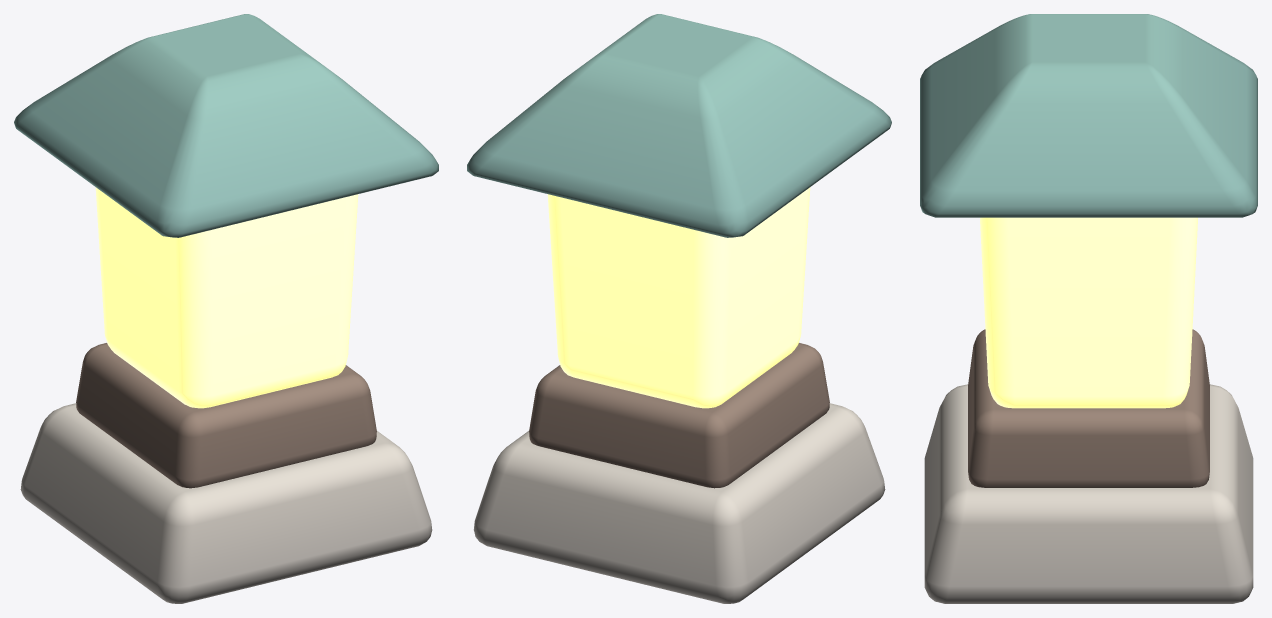
Rendered from hero_storybook_lantern.glb.
The picture shows the model from 3 angles, left to right: view 1: azimuth 30°, elevation 25°; view 2: azimuth 150°, elevation 25°; view 3: azimuth 270°, elevation 25°; orthographic projection. The views are drawn at different scales.
Visible parts, largest first — view 1: LanternRoofCap, LanternPlinth, LanternAmberCore, LanternFrameBase; view 2: LanternRoofCap, LanternPlinth, LanternAmberCore, LanternFrameBase; view 3: LanternRoofCap, LanternPlinth, LanternAmberCore, LanternFrameBase.
Boxes of the visible parts, left/top/right/bottom form: LanternRoofCap: left=14, top=14, right=438, bottom=237; LanternPlinth: left=20, top=403, right=432, bottom=603; LanternAmberCore: left=95, top=187, right=358, bottom=408; LanternFrameBase: left=76, top=343, right=376, bottom=488; LanternRoofCap: left=467, top=14, right=891, bottom=237; LanternPlinth: left=473, top=403, right=885, bottom=603; LanternAmberCore: left=547, top=187, right=810, bottom=408; LanternFrameBase: left=529, top=343, right=829, bottom=488; LanternRoofCap: left=920, top=14, right=1257, bottom=217; LanternPlinth: left=924, top=384, right=1253, bottom=603; LanternAmberCore: left=980, top=217, right=1197, bottom=408; LanternFrameBase: left=968, top=329, right=1209, bottom=487.
Bounding box in the file's own units: 0.7129 × 1.17 × 0.7129.
